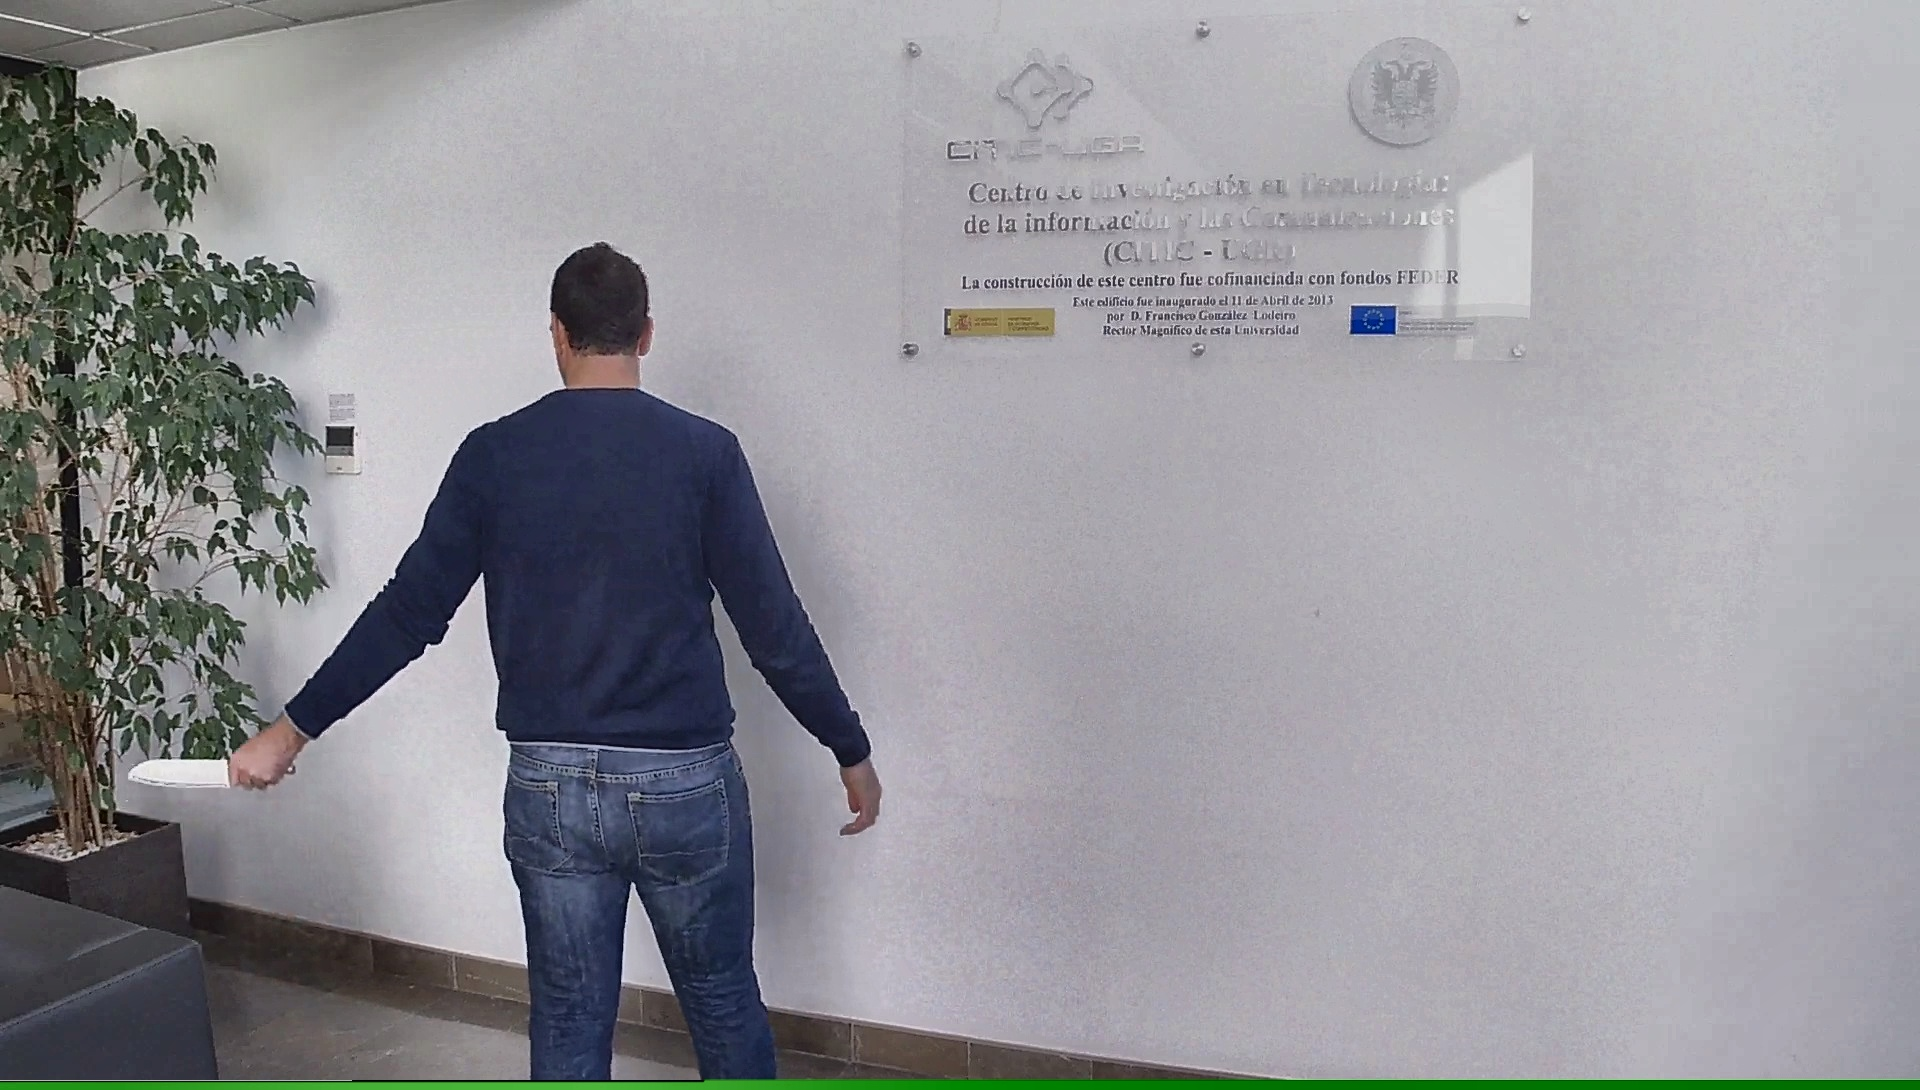knife: (117, 749, 309, 797)
